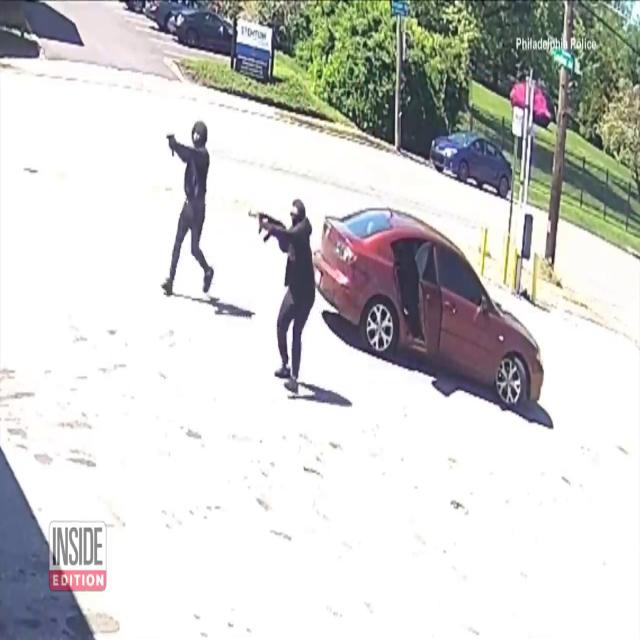penembakan: (246, 195, 318, 400), (158, 111, 214, 303)
